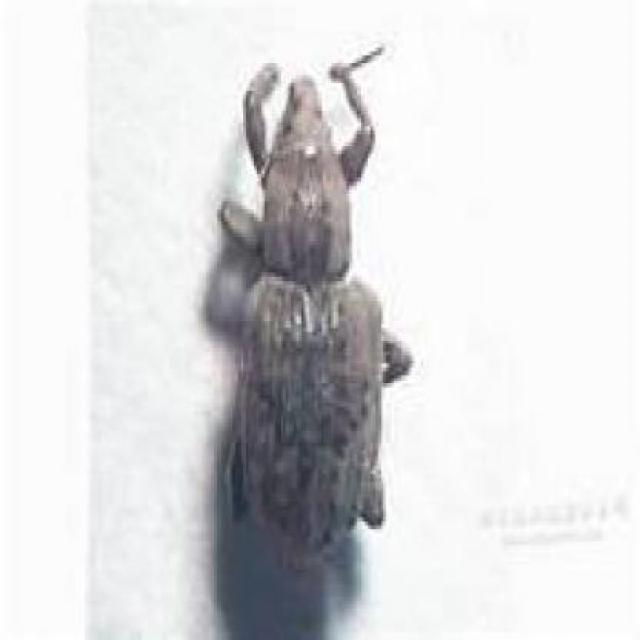rice-bug: (209, 48, 409, 550)
